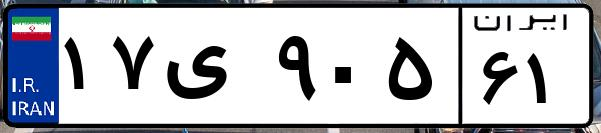0: (330, 28, 385, 110)
1: (57, 26, 110, 100), (525, 38, 570, 115)
5: (385, 28, 445, 110)
6: (475, 38, 525, 113)
7: (110, 28, 158, 98)
9: (270, 28, 330, 110)
ی: (158, 20, 270, 120)
